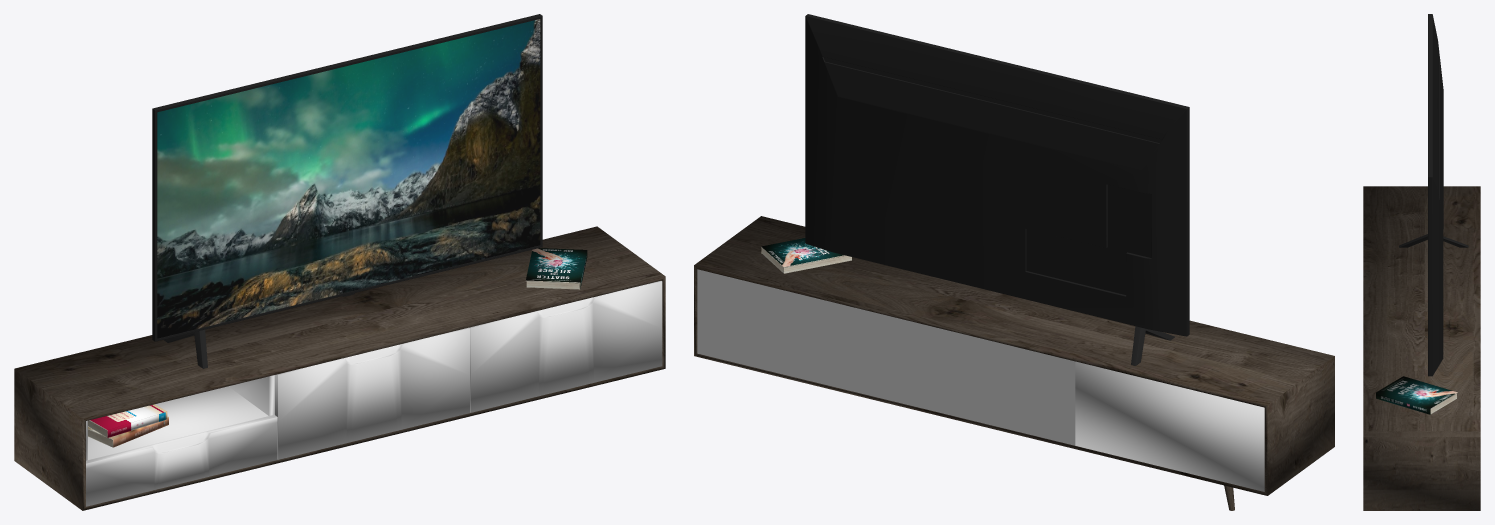
The picture shows the model from 3 angles, left to right: view 1: azimuth 30°, elevation 25°; view 2: azimuth 150°, elevation 25°; view 3: azimuth 270°, elevation 25°; orthographic projection. The views are drawn at different scales.
Visible parts, largest first — view 1: TV, Cabinet_cover, Cabinet1_Door, Cabinet1, book_cover.007, book_cover.006; view 2: TV, Cabinet_cover, Cabinet2, Cabinet3, Cabinet1, book_cover.007; view 3: Cabinet_cover, TV, book_cover.007, tv_legs.
Boxes of the visible parts, left/top/right/bottom form: TV: left=152, top=14, right=542, bottom=341; Cabinet_cover: left=14, top=226, right=665, bottom=510; Cabinet1_Door: left=86, top=281, right=662, bottom=506; Cabinet1: left=86, top=375, right=274, bottom=460; book_cover.007: left=525, top=248, right=587, bottom=289; book_cover.006: left=88, top=404, right=167, bottom=437; TV: left=805, top=14, right=1189, bottom=336; Cabinet_cover: left=694, top=216, right=1334, bottom=495; Cabinet2: left=886, top=315, right=1075, bottom=445; Cabinet3: left=697, top=269, right=886, bottom=399; Cabinet1: left=1075, top=361, right=1264, bottom=491; book_cover.007: left=761, top=238, right=845, bottom=267; Cabinet_cover: left=1363, top=186, right=1480, bottom=510; TV: left=1428, top=14, right=1443, bottom=376; book_cover.007: left=1376, top=376, right=1457, bottom=414; tv_legs: left=1399, top=234, right=1468, bottom=247.
Size of the model in its own units: 2.71 by 1.67 by 0.5486.
Materials: 8 (6 with a texture image).
